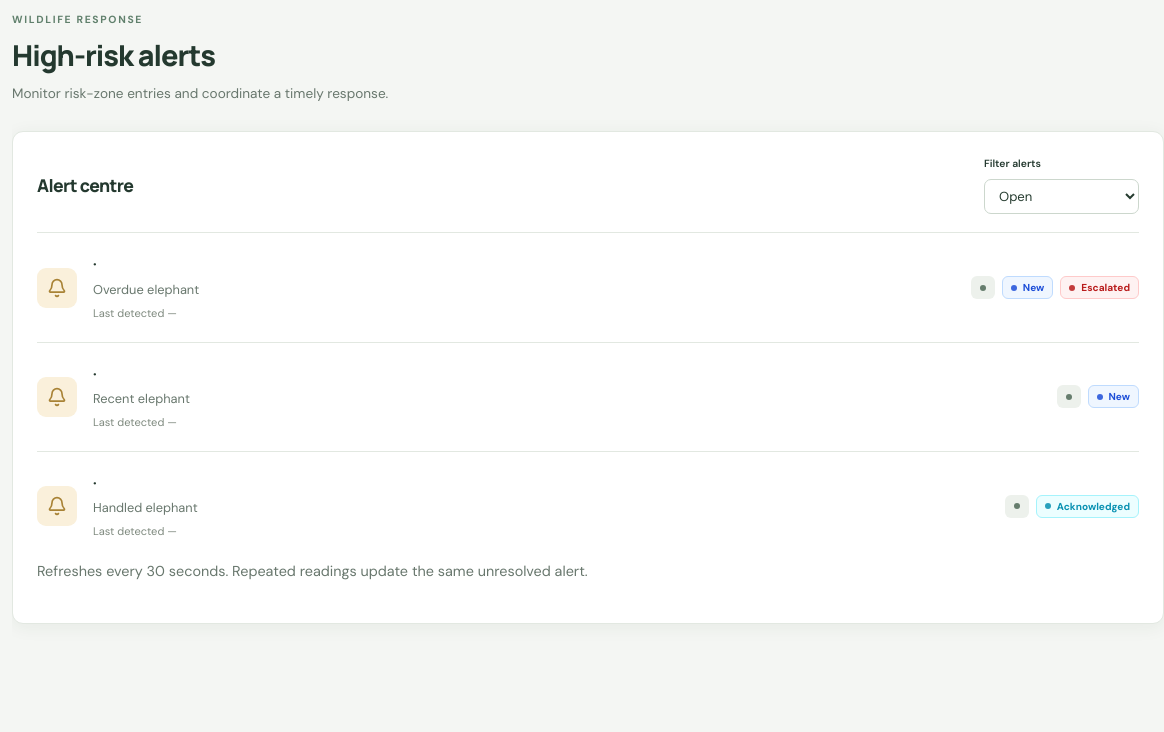
Scenario: Overdue alert escalation › filters to escalated alerts still awaiting acknowledgement
The width and height of the screenshot is (1164, 732).
Select "Escalated" in the dropdown labelled "Filter alerts" at (1062, 197), box [984, 179, 1139, 214]
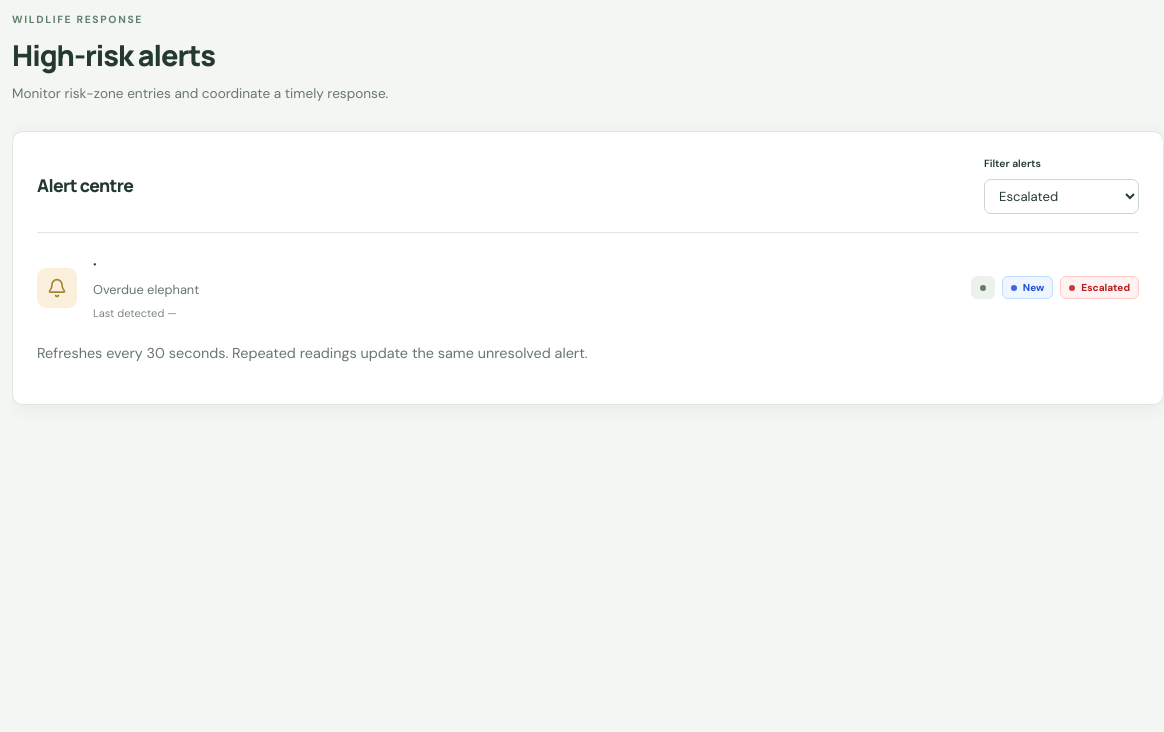
Expected: the text "Overdue elephant" is shown, [93, 281, 199, 298]
Now the link "Recent elephant" is gone
Now the link "Handled elephant" is gone
